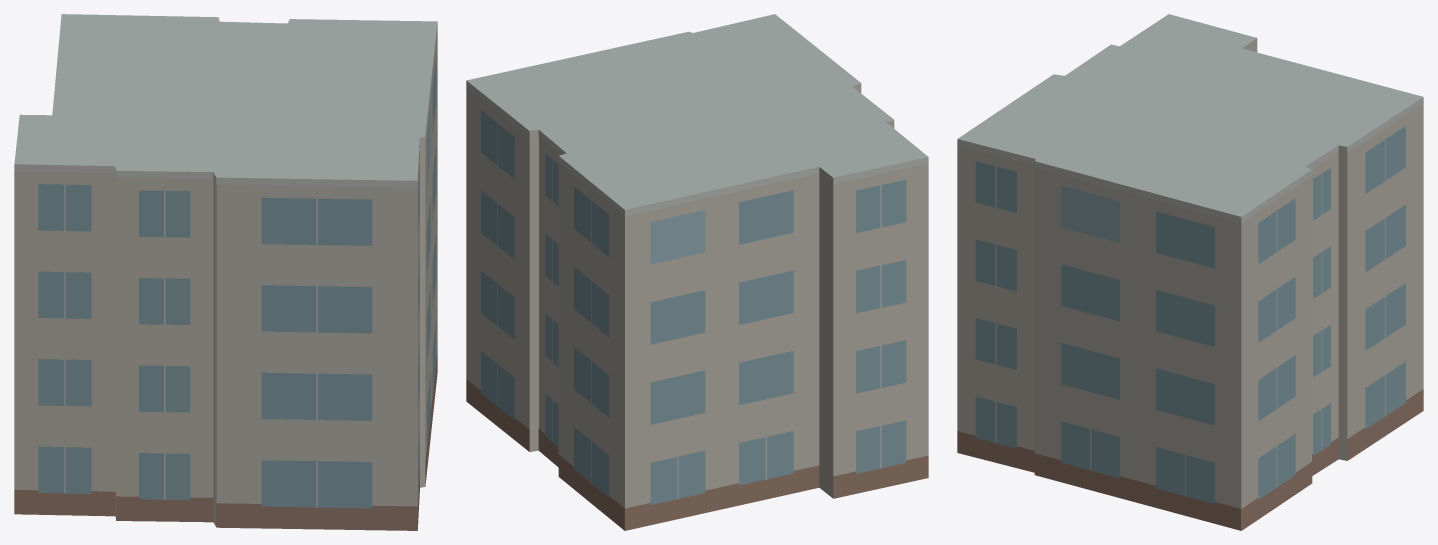
File: survey-upis-32594095.glb
3 renders of one model, left to right at view 1: azimuth 30°, elevation 25°; view 2: azimuth 150°, elevation 25°; view 3: azimuth 270°, elevation 25°, orthographic. The views are drawn at different scales.
Visible parts, largest first — view 1: survey-upis-32594095.tmp; view 2: survey-upis-32594095.tmp; view 3: survey-upis-32594095.tmp.
Part boxes in pixels (<box>): survey-upis-32594095.tmp: <box>14,14,437,530</box>; survey-upis-32594095.tmp: <box>466,14,928,530</box>; survey-upis-32594095.tmp: <box>957,14,1423,530</box>.
Size of the model in its own units: 16.85 by 12.15 by 16.36.
